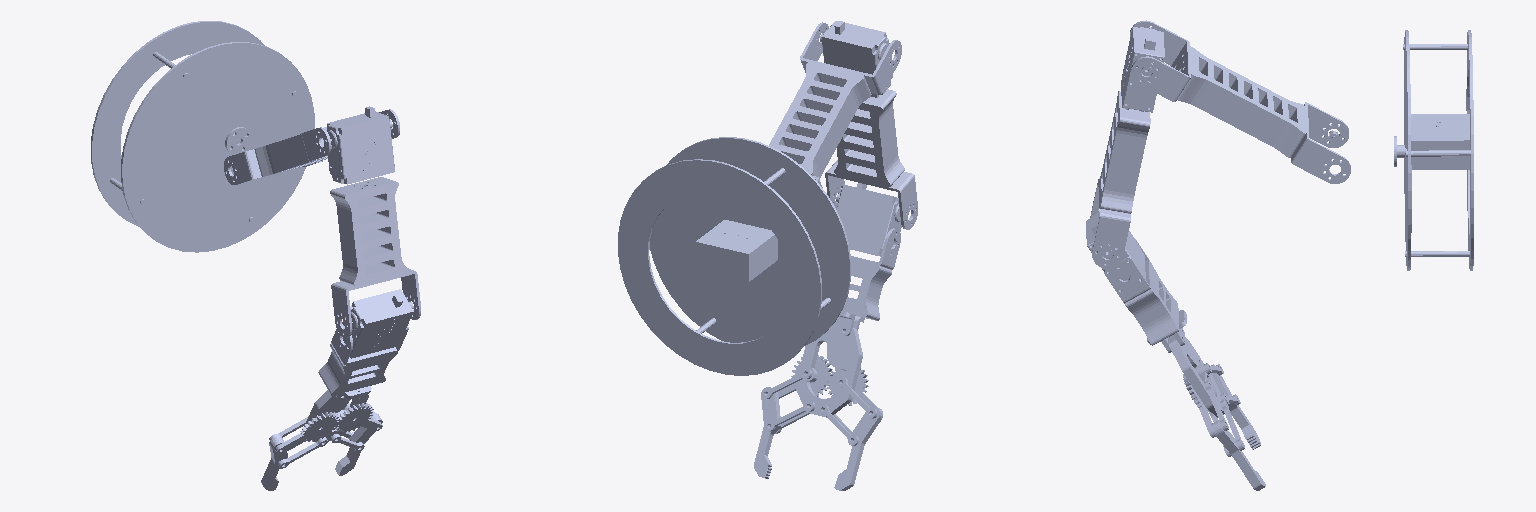
URDF robot description (my_robot_description):
<?xml version="1.0" encoding="utf-8"?>
<!-- This URDF was automatically created by SolidWorks to URDF Exporter! Originally created by Stephen Brawner (brawner@gmail.com) 
     Commit Version: 1.6.0-4-g7f85cfe  Build Version: 1.6.7995.38578
     For more information, please see http://wiki.ros.org/sw_urdf_exporter -->
<robot
  name="my_robot_description">
  <link
    name="base_link">
    <inertial>
      <origin
        xyz="0.091959 0.026985 -0.17169"
        rpy="0 0 0" />
      <mass
        value="0.092187" />
      <inertia
        ixx="0.00010245"
        ixy="1.4538E-09"
        ixz="1.8672E-06"
        iyy="0.0001058"
        iyz="-2.8355E-11"
        izz="0.00019857" />
    </inertial>
    <visual>
      <origin
        xyz="0 0 0"
        rpy="0 0 0" />
      <geometry>
        <mesh
          filename="package://my_robot_description/meshes/base_link.STL" />
      </geometry>
      <material
        name="">
        <color
          rgba="0.79216 0.81961 0.93333 1" />
      </material>
    </visual>
    <collision>
      <origin
        xyz="0 0 0"
        rpy="0 0 0" />
      <geometry>
        <mesh
          filename="package://my_robot_description/meshes/base_link.STL" />
      </geometry>
    </collision>
  </link>
  <link
    name="link_1">
    <inertial>
      <origin
        xyz="-0.00154241341781598 0.0100013350004457 0.00024229829884681"
        rpy="0 0 0" />
      <mass
        value="0.036067227742246" />
      <inertia
        ixx="6.63657864876778E-06"
        ixy="8.80269449010779E-11"
        ixz="-2.54280343091645E-08"
        iyy="1.00325657295449E-05"
        iyz="5.58302487667919E-11"
        izz="5.76334895905913E-06" />
    </inertial>
    <visual>
      <origin
        xyz="0 0 0"
        rpy="0 0 0" />
      <geometry>
        <mesh
          filename="package://my_robot_description/meshes/link_1.STL" />
      </geometry>
      <material
        name="">
        <color
          rgba="0.792156862745098 0.819607843137255 0.933333333333333 1" />
      </material>
    </visual>
    <collision>
      <origin
        xyz="0 0 0"
        rpy="0 0 0" />
      <geometry>
        <mesh
          filename="package://my_robot_description/meshes/link_1.STL" />
      </geometry>
    </collision>
  </link>
  <joint
    name="joint_1"
    type="revolute">
    <origin
      xyz="0.10523 0.12001 0.040127"
      rpy="-1.5645 0 -1.5513" />
    <parent
      link="base_link" />
    <child
      link="link_1" />
    <axis
      xyz="1 0 0" />
    <limit
      lower="-1.57"
      upper="1.57"
      effort="17"
      velocity="6" />
  </joint>
  <link
    name="link_2">
    <inertial>
      <origin
        xyz="0.0804914911932472 0.00999939035036593 -0.00069999999999977"
        rpy="0 0 0" />
      <mass
        value="0.0495461612560023" />
      <inertia
        ixx="1.24162296730713E-05"
        ixy="1.27054942088145E-20"
        ixz="-9.70779166892233E-20"
        iyy="4.03832372625596E-05"
        iyz="-1.00585162486448E-21"
        izz="3.13050058803983E-05" />
    </inertial>
    <visual>
      <origin
        xyz="0 0 0"
        rpy="0 0 0" />
      <geometry>
        <mesh
          filename="package://my_robot_description/meshes/link_2.STL" />
      </geometry>
      <material
        name="">
        <color
          rgba="0.792156862745098 0.819607843137255 0.933333333333333 1" />
      </material>
    </visual>
    <collision>
      <origin
        xyz="0 0 0"
        rpy="0 0 0" />
      <geometry>
        <mesh
          filename="package://my_robot_description/meshes/link_2.STL" />
      </geometry>
    </collision>
  </link>
  <joint
    name="joint_2"
    type="revolute">
    <origin
      xyz="-0.0035304 0.0068889 5E-05"
      rpy="0 0 -0.52728" />
    <parent
      link="link_1" />
    <child
      link="link_2" />
    <axis
      xyz="1 0 0" />
    <limit
      lower="-1.57"
      upper="1.57"
      effort="17"
      velocity="6" />
  </joint>
  <link
    name="link_3">
    <inertial>
      <origin
        xyz="0.00653161285211037 -0.0199332386166537 4.30811515975127E-08"
        rpy="0 0 0" />
      <mass
        value="0.0705058258846531" />
      <inertia
        ixx="2.06638121586508E-05"
        ixy="-2.67090290954804E-09"
        ixz="5.58198148244558E-11"
        iyy="1.38633050563832E-05"
        iyz="4.44011945952539E-11"
        izz="2.98455783729426E-05" />
    </inertial>
    <visual>
      <origin
        xyz="0 0 0"
        rpy="0 0 0" />
      <geometry>
        <mesh
          filename="package://my_robot_description/meshes/link_3.STL" />
      </geometry>
      <material
        name="">
        <color
          rgba="0.792156862745098 0.819607843137255 0.933333333333333 1" />
      </material>
    </visual>
    <collision>
      <origin
        xyz="0 0 0"
        rpy="0 0 0" />
      <geometry>
        <mesh
          filename="package://my_robot_description/meshes/link_3.STL" />
      </geometry>
    </collision>
  </link>
  <joint
    name="joint_3"
    type="revolute">
    <origin
      xyz="0.14167 0.034057 0.0066836"
      rpy="2.8085 1.5708 0" />
    <parent
      link="link_2" />
    <child
      link="link_3" />
    <axis
      xyz="1 0 0" />
    <limit
      lower="-1.57"
      upper="1.57"
      effort="17"
      velocity="6" />
  </joint>
  <link
    name="Link_4">
    <inertial>
      <origin
        xyz="-0.0193434356658074 0.0100008107329039 0.000147236350600766"
        rpy="0 0 0" />
      <mass
        value="0.0593537751629533" />
      <inertia
        ixx="1.05306142744019E-05"
        ixy="8.81772828823235E-11"
        ixz="-2.54284235351203E-08"
        iyy="1.59572296823589E-05"
        iyz="5.56917440389303E-11"
        izz="9.24516004368596E-06" />
    </inertial>
    <visual>
      <origin
        xyz="0 0 0"
        rpy="0 0 0" />
      <geometry>
        <mesh
          filename="package://my_robot_description/meshes/Link_4.STL" />
      </geometry>
      <material
        name="">
        <color
          rgba="0.792156862745098 0.819607843137255 0.933333333333333 1" />
      </material>
    </visual>
    <collision>
      <origin
        xyz="0 0 0"
        rpy="0 0 0" />
      <geometry>
        <mesh
          filename="package://my_robot_description/meshes/Link_4.STL" />
      </geometry>
    </collision>
  </link>
  <joint
    name="joint_4"
    type="revolute">
    <origin
      xyz="0.0058687 -0.10605 0.014804"
      rpy="-1.5708 0.73124 1.5708" />
    <parent
      link="link_3" />
    <child
      link="Link_4" />
    <axis
      xyz="1 0 0" />
    <limit
      lower="-1.57"
      upper="1.57"
      effort="17"
      velocity="6" />
  </joint>
  <link
    name="grab">
    <inertial>
      <origin
        xyz="0.030736 0.046969 0.0036819"
        rpy="0 0 0" />
      <mass
        value="0.021709" />
      <inertia
        ixx="5.0488E-06"
        ixy="6.4622E-08"
        ixz="-2.0046E-12"
        iyy="2.0398E-06"
        iyz="4.7424E-12"
        izz="7.0141E-06" />
    </inertial>
    <visual>
      <origin
        xyz="0 0 0"
        rpy="0 0 0" />
      <geometry>
        <mesh
          filename="package://my_robot_description/meshes/grab.STL" />
      </geometry>
      <material
        name="">
        <color
          rgba="0.79216 0.81961 0.93333 1" />
      </material>
    </visual>
    <collision>
      <origin
        xyz="0 0 0"
        rpy="0 0 0" />
      <geometry>
        <mesh
          filename="package://my_robot_description/meshes/grab.STL" />
      </geometry>
    </collision>
  </link>
  <joint
    name="joint_5"
    type="prismatic">
    <origin
      xyz="-0.071065 0.007 0.030039"
      rpy="-1.5838 1.5708 -0.013243" />
    <parent
      link="Link_4" />
    <child
      link="grab" />
    <axis
      xyz="0 0 1" />
    <limit
      lower="0"
      upper="1.57"
      effort="17"
      velocity="1" />
  </joint>
</robot>

--- Facts derived from the render (not from the file) ---
3 views of the same robot in one strip: view 1: azimuth 30°, elevation 25°; view 2: azimuth 150°, elevation 25°; view 3: azimuth 270°, elevation 25° (orthographic).
Robot: my_robot_description — 6 links, 5 joints (4 revolute, 1 prismatic); root link base_link; default pose: all joints at 0.
Links seen in each view (by area): view 1: base_link, link_3, Link_4, grab, link_2; view 2: base_link, link_3, grab, link_2, Link_4; view 3: link_2, link_3, base_link, Link_4, grab.
Boxes of the visible links, x1=… form: base_link: x1=91, y1=21, x2=314, y2=252; link_3: x1=326, y1=106, x2=420, y2=337; Link_4: x1=318, y1=289, x2=413, y2=399; grab: x1=261, y1=390, x2=382, y2=490; link_2: x1=224, y1=109, x2=399, y2=184; base_link: x1=618, y1=137, x2=850, y2=375; link_3: x1=820, y1=21, x2=917, y2=229; grab: x1=754, y1=328, x2=882, y2=490; link_2: x1=769, y1=22, x2=901, y2=187; Link_4: x1=828, y1=183, x2=901, y2=335; link_2: x1=1130, y1=20, x2=1350, y2=183; link_3: x1=1090, y1=27, x2=1164, y2=268; base_link: x1=1329, y1=30, x2=1473, y2=270; Link_4: x1=1086, y1=212, x2=1186, y2=352; grab: x1=1168, y1=335, x2=1265, y2=490.
Bounding box of the posed robot: 0.1544 × 0.2478 × 0.3095 m (x, y, z).
Meshes: 6 distinct files referenced, 5 mesh visuals loaded (5 binary STL); not drawn: 1 (file found but could not be loaded).
